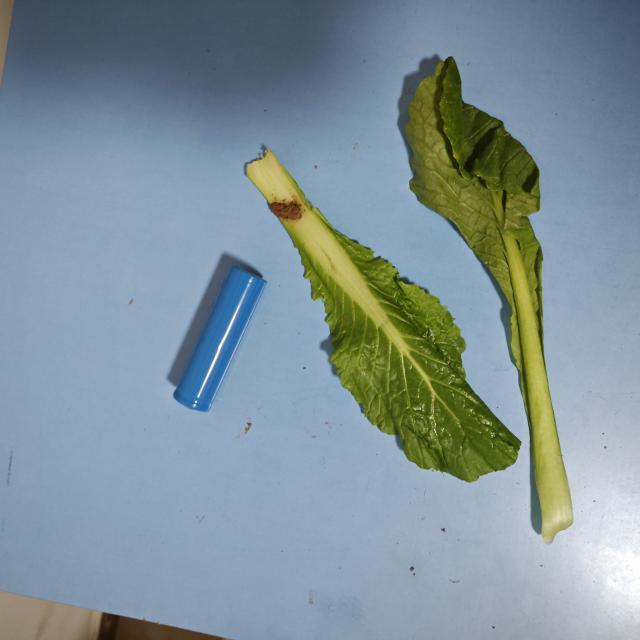-Hazardous waste - battery-: (168, 258, 266, 412)
-Kitchen waste - vegetable roots and leaves-: (248, 132, 516, 468), (398, 46, 578, 530)
